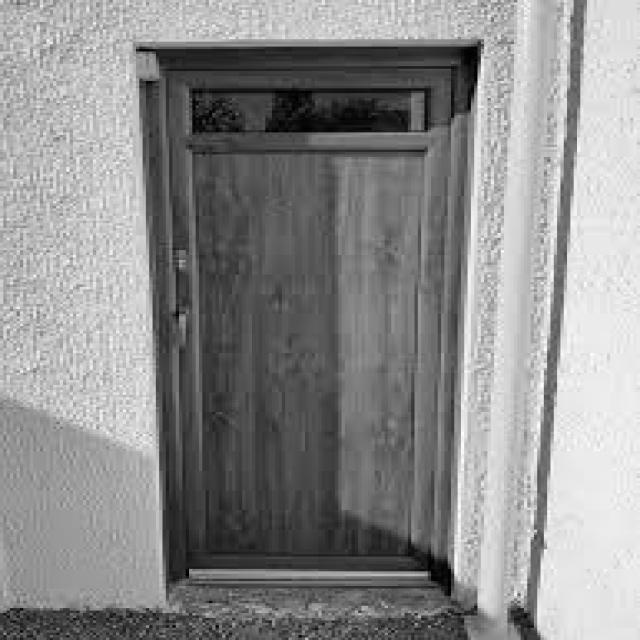door: (117, 23, 472, 602)
